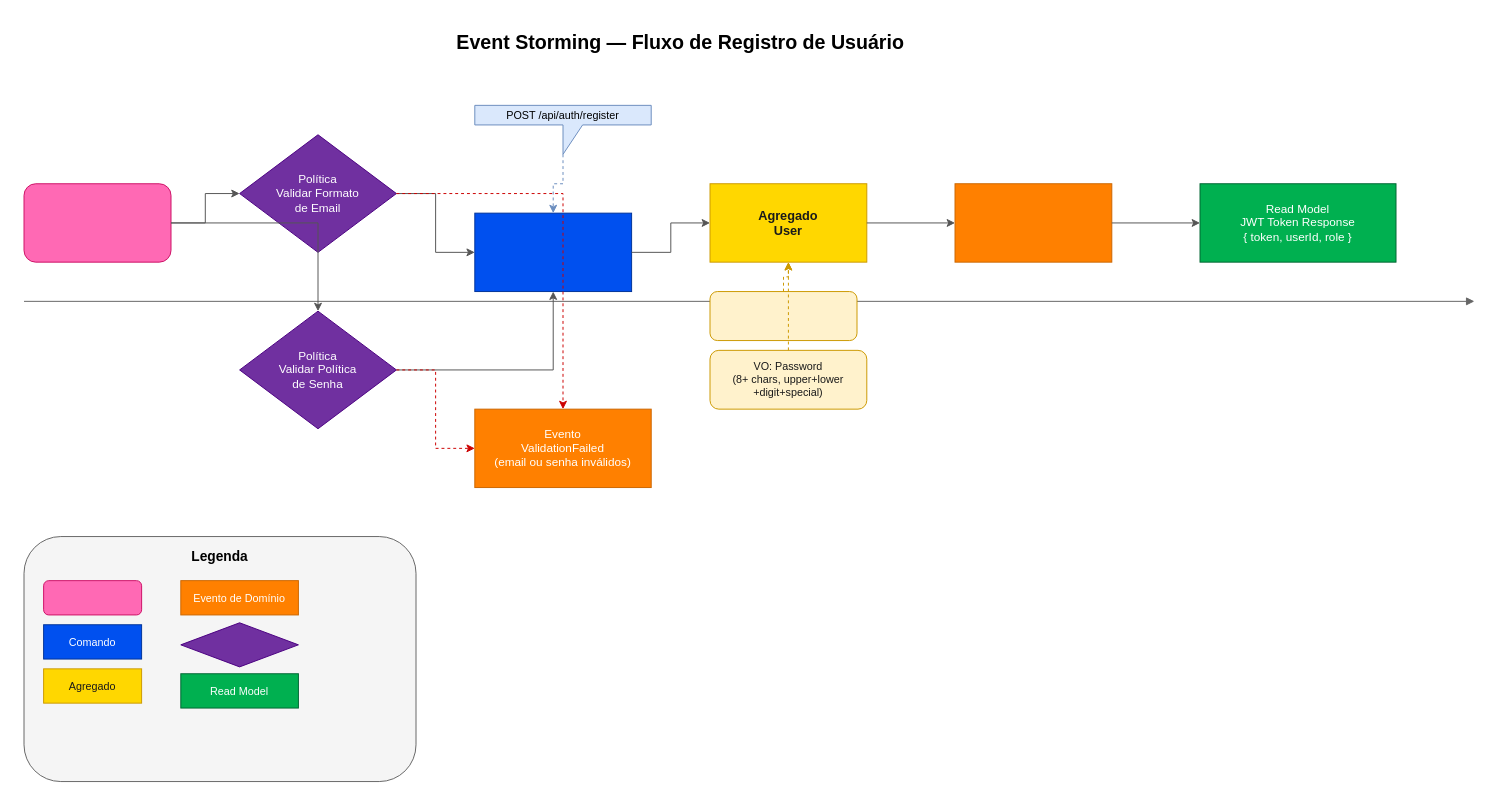
Image size: 1499x799. Some labels were removed from this diagram. Each missing label, with the centre of its shape:
"Ator" belongs at (92,597).
"Comando RegisterUser" belongs at (553,252).
"Evento UserRegistered" belongs at (1033,222).
"Política" belongs at (239,644).
"VO: Email (formato válido)" belongs at (783,316).
"👤 Usuário" belongs at (97,222).
